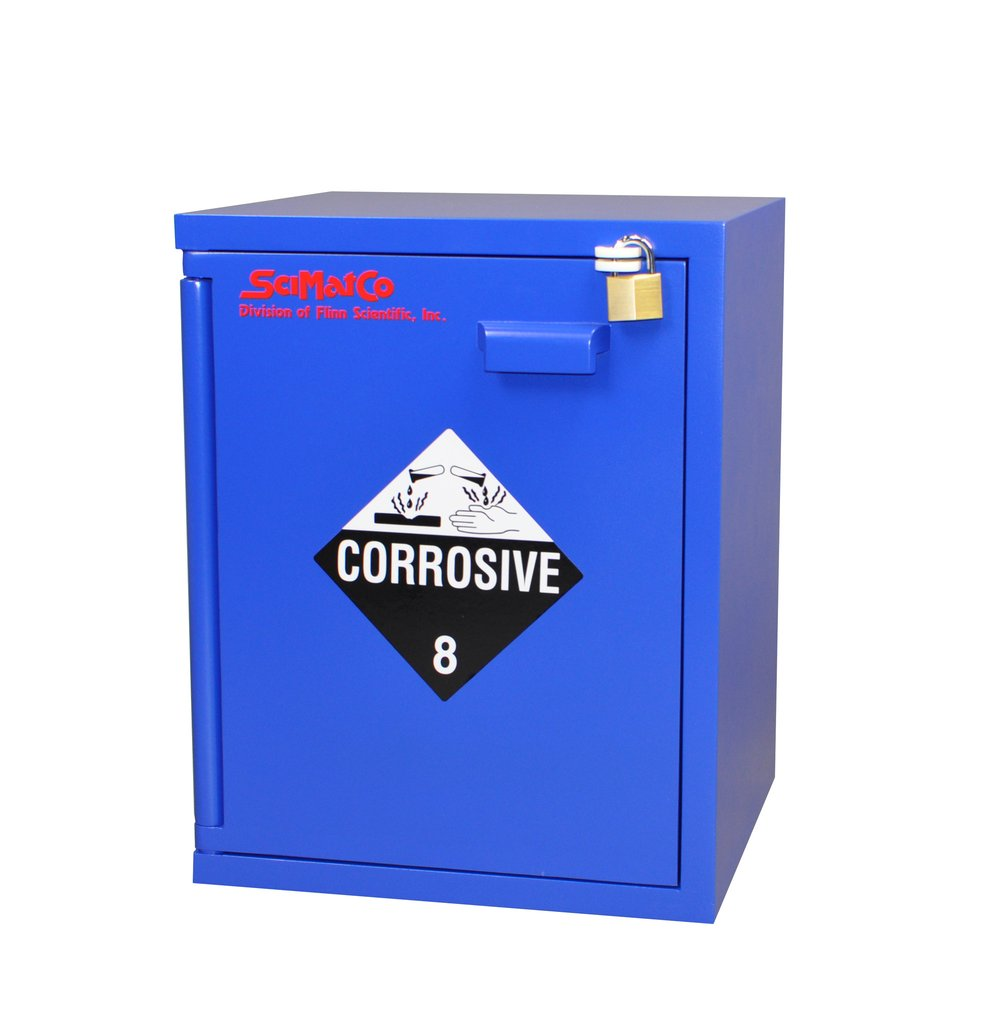Corrosive: (318, 431, 585, 704)
